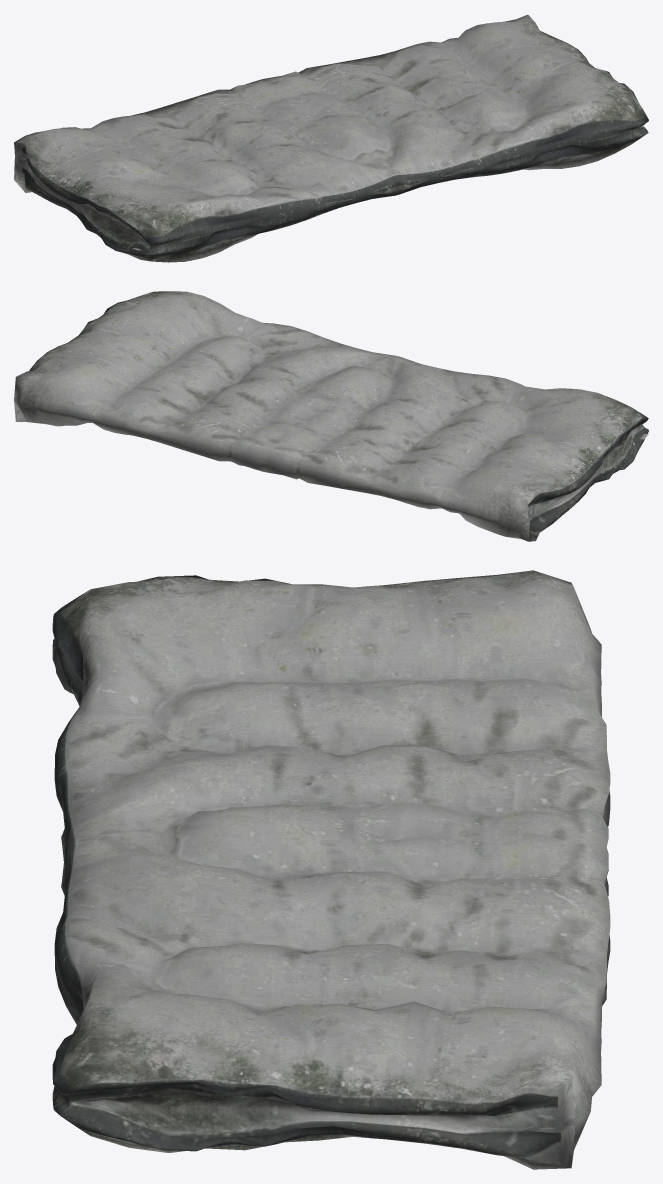
The model's file is saco_dormir.glb.
3 renders of one model, top to bottom at view 1: azimuth 30°, elevation 25°; view 2: azimuth 150°, elevation 25°; view 3: azimuth 270°, elevation 25°, orthographic. The views are drawn at different scales.
Parts seen in each view (by area): view 1: models\props\interior_furniture\interior_sleeping_bag_001.vm; view 2: models\props\interior_furniture\interior_sleeping_bag_001.vm; view 3: models\props\interior_furniture\interior_sleeping_bag_001.vm.
Part boxes in pixels (left/top/right/bottom): models\props\interior_furniture\interior_sleeping_bag_001.vm: left=14, top=14, right=648, bottom=262; models\props\interior_furniture\interior_sleeping_bag_001.vm: left=14, top=291, right=648, bottom=541; models\props\interior_furniture\interior_sleeping_bag_001.vm: left=52, top=570, right=610, bottom=1169.
Bounding box in the file's own units: 2.16 × 0.2297 × 0.9784.
1 material, 1 textured.
